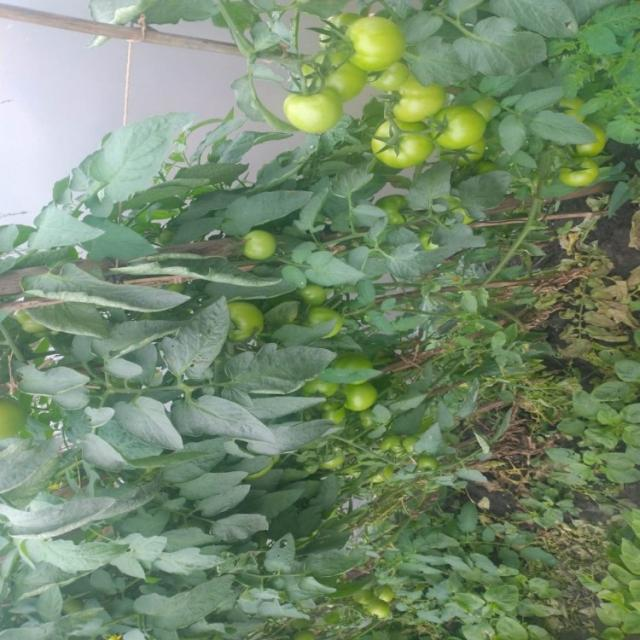tomato: (422, 85, 491, 152), (341, 4, 408, 70), (363, 111, 433, 174), (274, 77, 341, 134), (308, 41, 371, 101), (568, 108, 622, 170), (336, 372, 394, 418), (385, 72, 436, 121), (296, 365, 346, 413), (556, 152, 603, 197), (303, 305, 351, 348), (554, 82, 594, 129), (225, 302, 265, 339), (378, 186, 411, 224), (363, 580, 395, 619), (243, 227, 266, 257), (298, 285, 327, 305)
